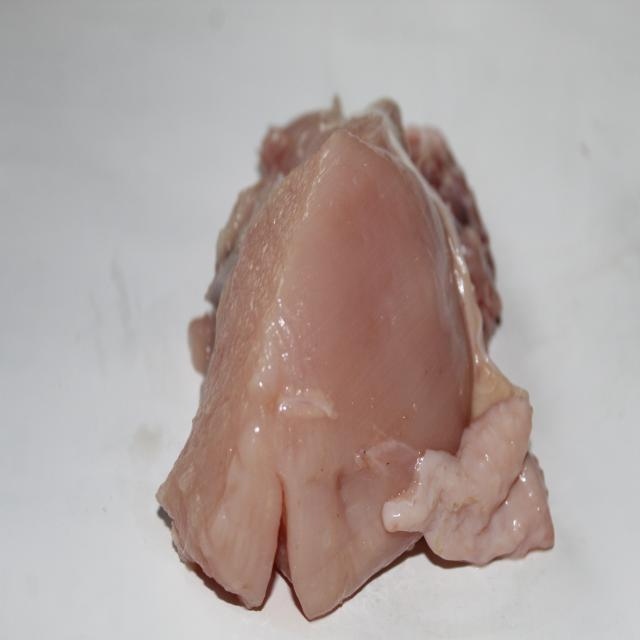chicken: (158, 100, 556, 614)
